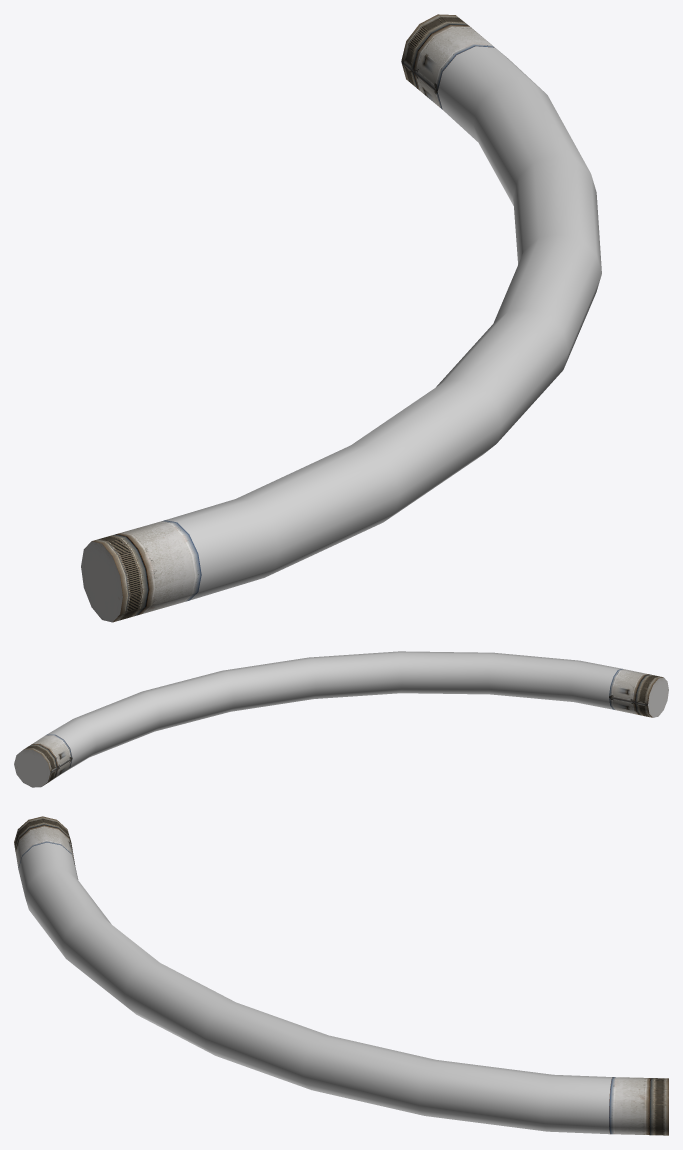
File: scifi_pipe_small_curve1_1.FBX
3 views of the same model, one above another, from view 1: azimuth 30°, elevation 25°; view 2: azimuth 150°, elevation 25°; view 3: azimuth 270°, elevation 25° (orthographic). The views are drawn at different scales.
Parts seen in each view (by area): view 1: Cylinder069; view 2: Cylinder069; view 3: Cylinder069.
Boxes of the visible parts, box(x1,y1,x2,y2) form: Cylinder069: box(81, 14, 601, 622); Cylinder069: box(14, 651, 668, 787); Cylinder069: box(14, 816, 668, 1135).
Size of the model in its own units: 292 by 25.62 by 292.
